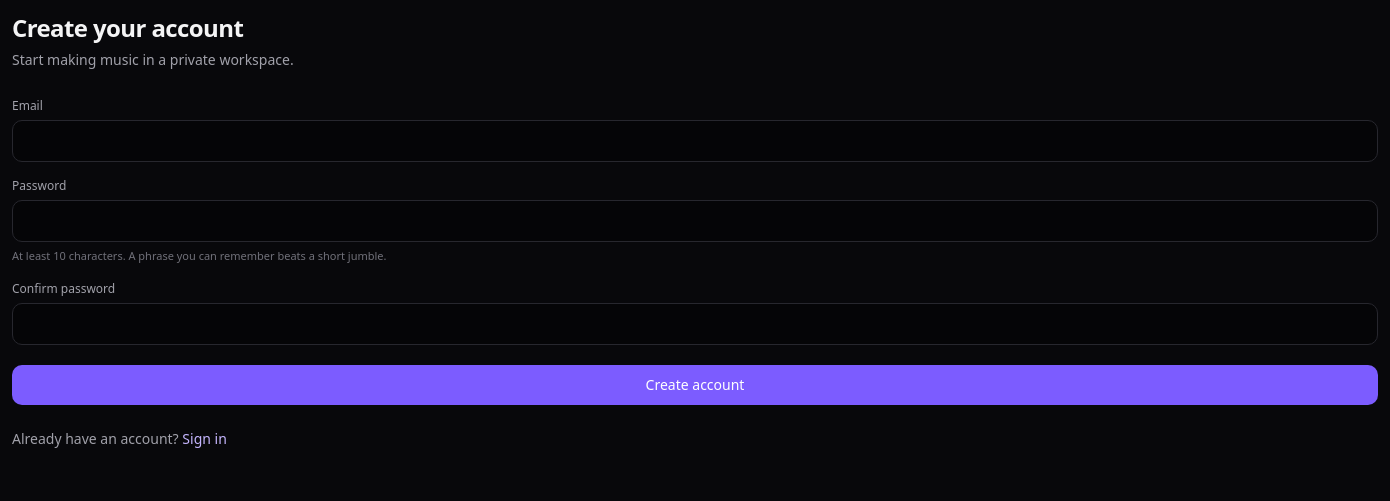
Test case: signup › reports a duplicate email in the server's words
Type "new@example.com" into the field labelled "Email". click: point(695, 141)
box: [12,120,1378,162]
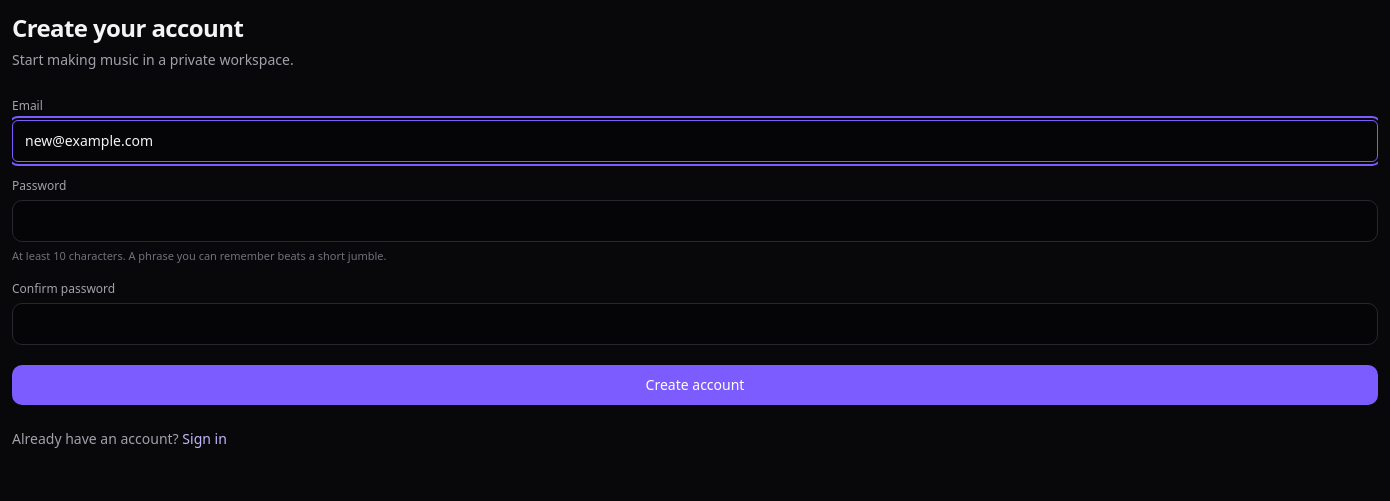
Type "correct horse battery" into the password field labelled "Password". click: point(695, 221)
box: [12,200,1378,242]
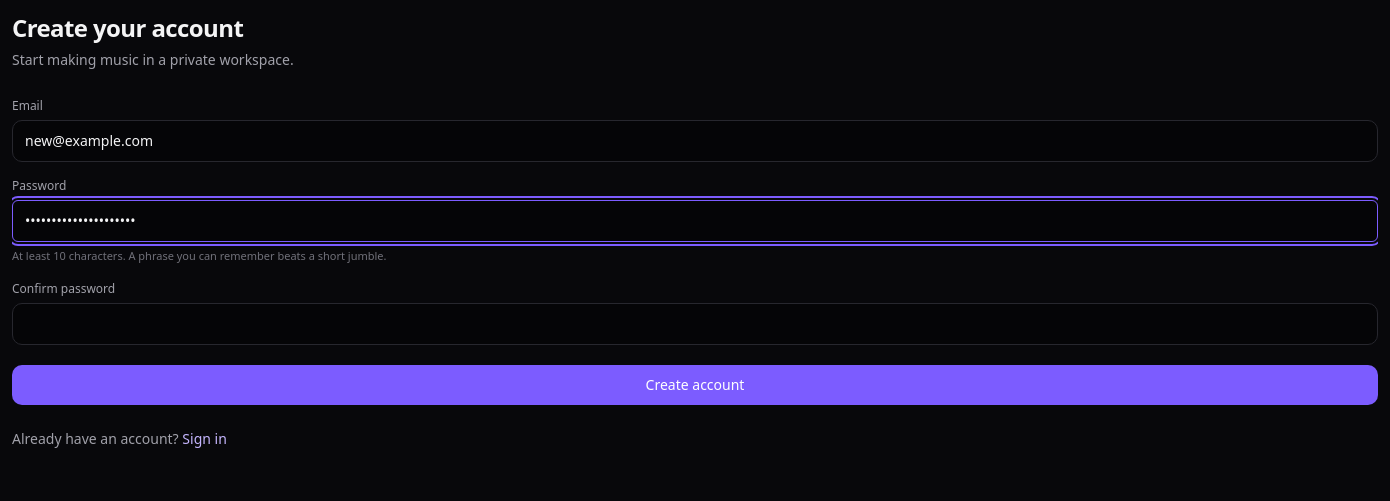
Type "correct horse battery" into the password field labelled "Confirm password". click: point(695, 324)
box: [12,302,1378,344]
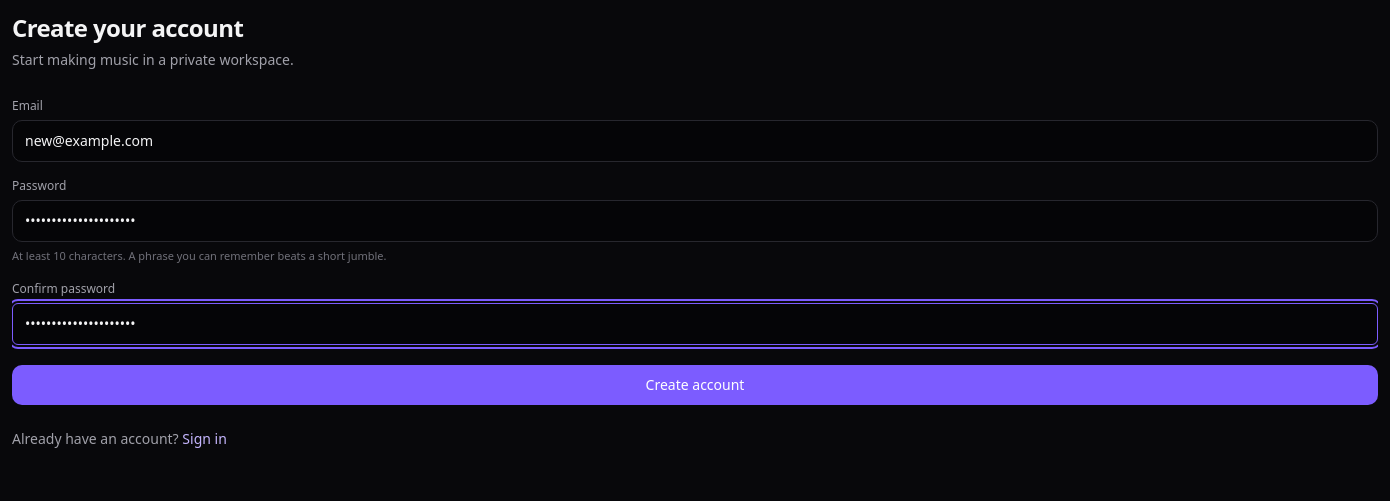
Click the button "Create account". click: point(695, 384)
box: [12,364,1378,404]
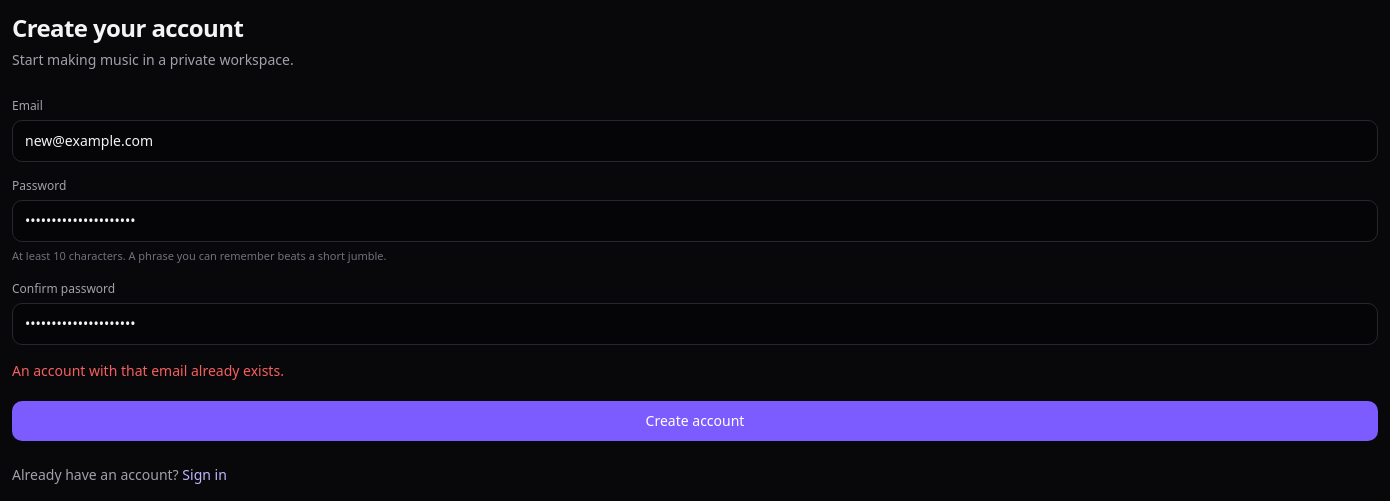
Result: the message shows "already exists" at [12,360,284,380]
